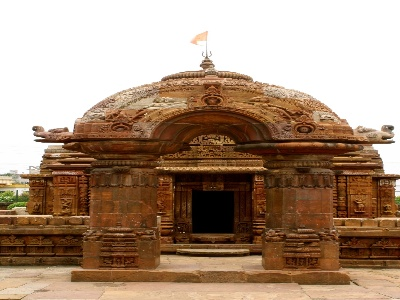torana: (65, 69, 357, 266)
